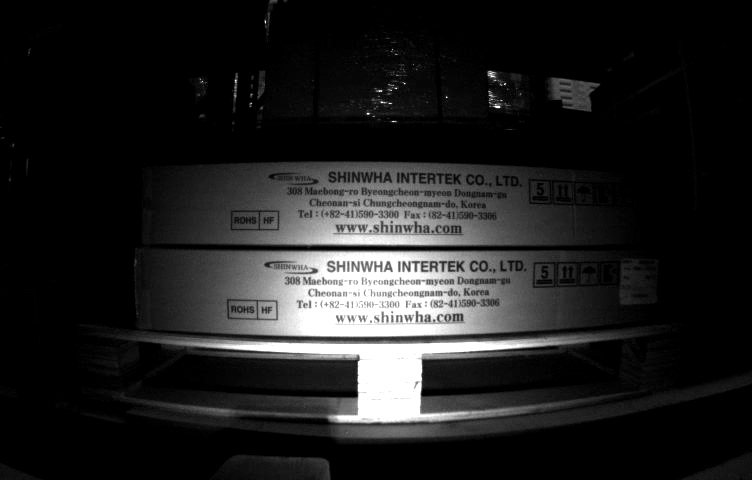True Barcode: (618, 257, 661, 306)
